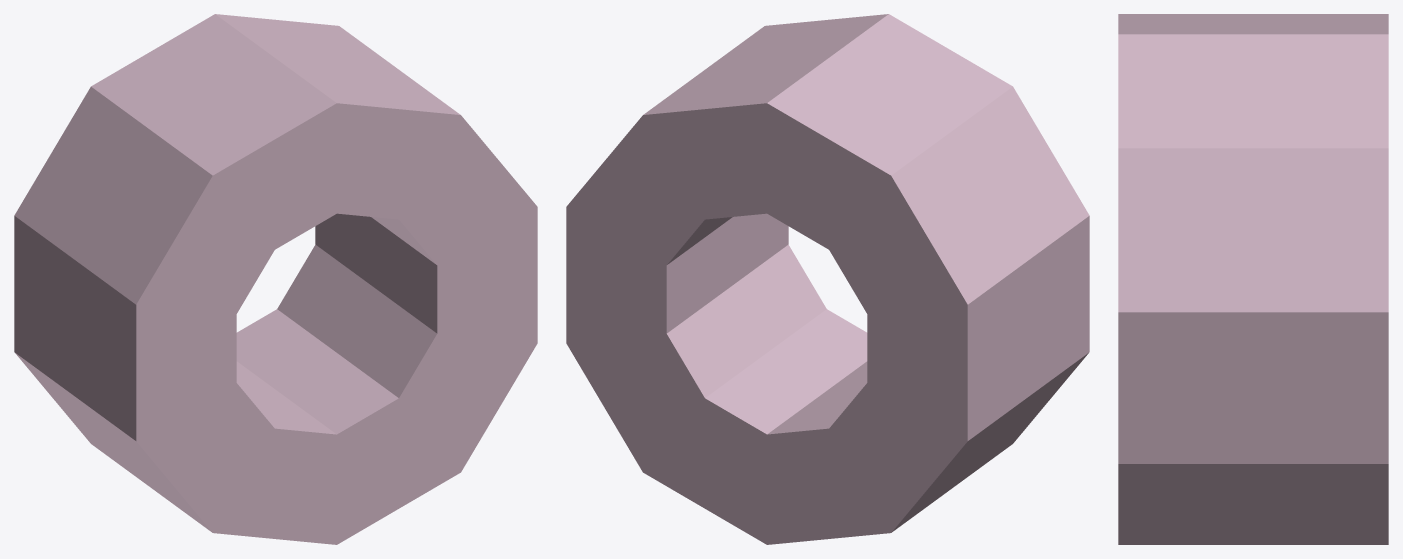
Rendered from wheel1.glb.
3 renders of one model, left to right at view 1: azimuth 30°, elevation 25°; view 2: azimuth 150°, elevation 25°; view 3: azimuth 270°, elevation 25°, orthographic. The views are drawn at different scales.
Visible parts, largest first — view 1: Mesh_Mesh_head_geo.001_lambert2SG.001; view 2: Mesh_Mesh_head_geo.001_lambert2SG.001; view 3: Mesh_Mesh_head_geo.001_lambert2SG.001.
Boxes of the visible parts, <box> form: Mesh_Mesh_head_geo.001_lambert2SG.001: <box>14,14,537,544</box>; Mesh_Mesh_head_geo.001_lambert2SG.001: <box>566,14,1089,544</box>; Mesh_Mesh_head_geo.001_lambert2SG.001: <box>1118,14,1388,544</box>.
Size of the model in its own units: 0.0038 by 0.004 by 0.002.
